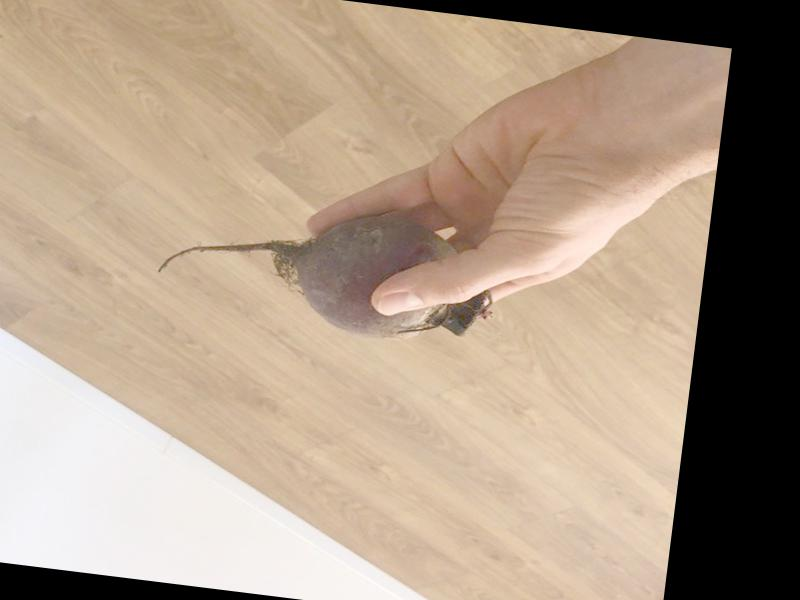Beet: (152, 189, 500, 350)
